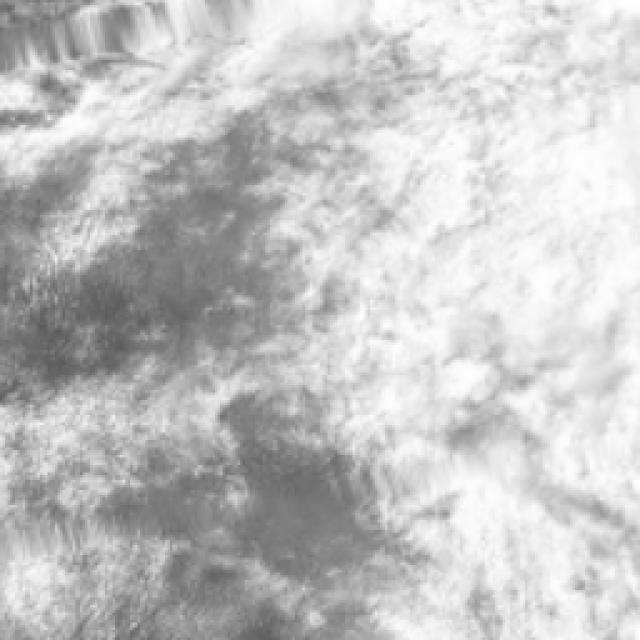CB: (497, 102, 640, 359)
